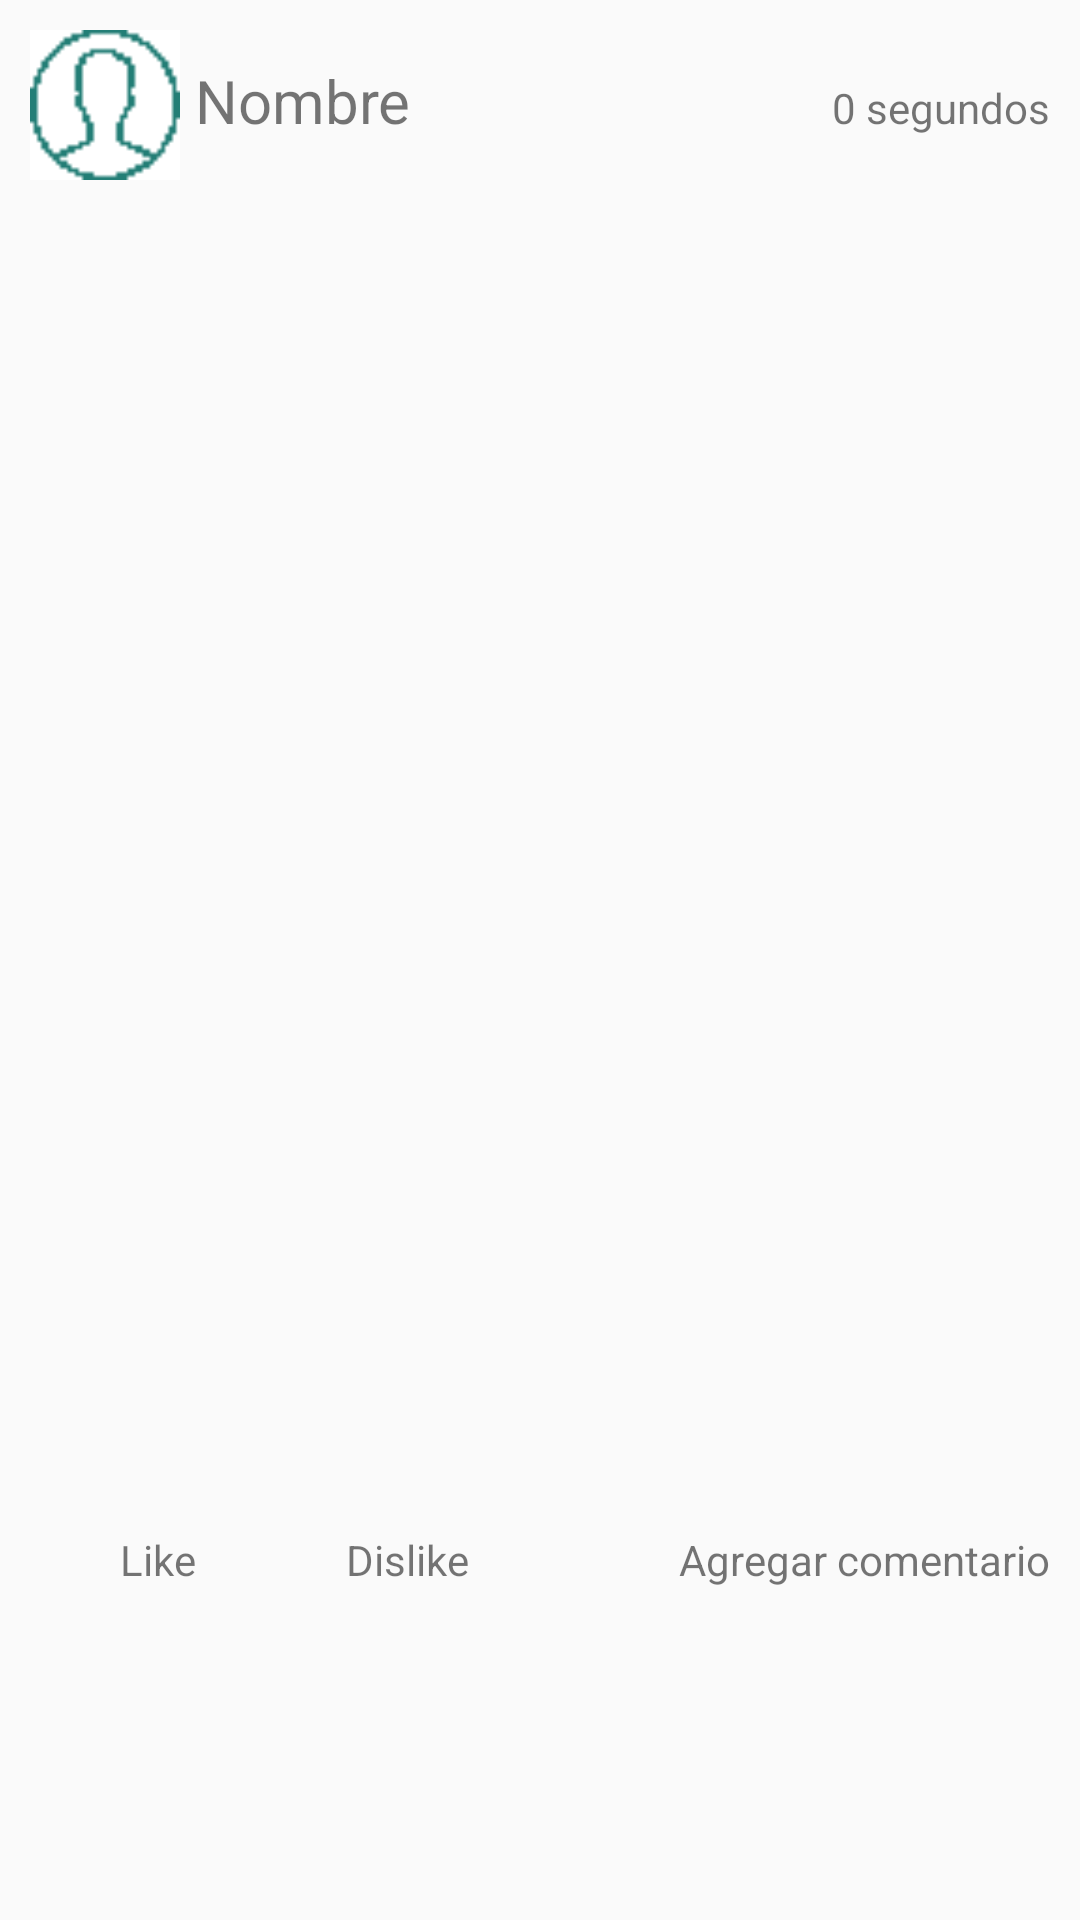

Named icons in this screenshot (1080px×1920px) and their bounding boxes, (x1, y1, x2, y2):
perfil: (30, 30, 180, 180)
